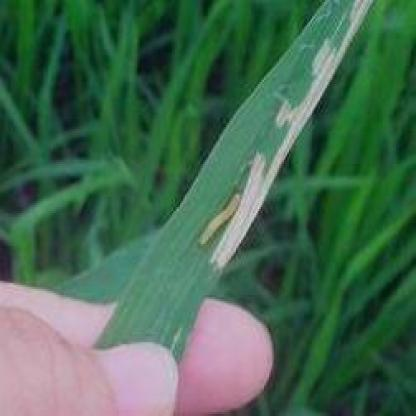leaf-folder: (190, 180, 252, 258)
